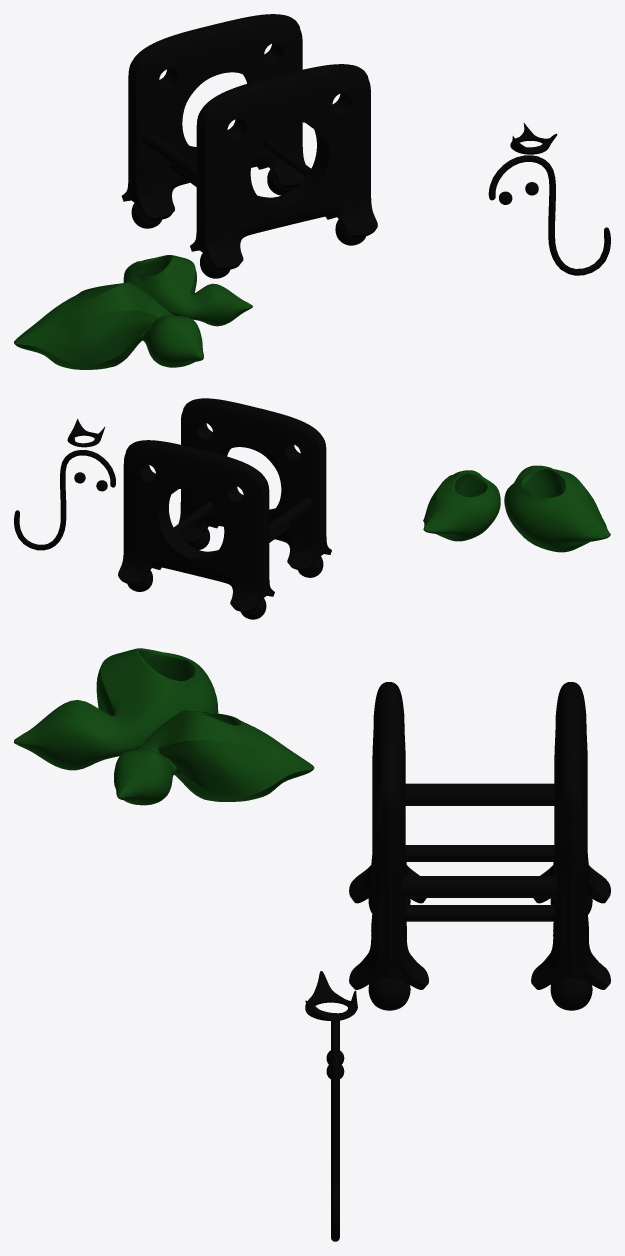
File: Agent2+User.fbx
The picture shows the model from 3 angles, top to bottom: view 1: azimuth 30°, elevation 25°; view 2: azimuth 150°, elevation 25°; view 3: azimuth 270°, elevation 25°; orthographic projection. The views are drawn at different scales.
Parts seen in each view (by area): view 1: MetalSilver, Metalblue, 圆锥蝴蝶, User; view 2: Metalblue, MetalSilver, 圆锥蝴蝶, User; view 3: 圆锥蝴蝶, MetalSilver, Metalblue, User.
Part boxes in pixels (bbox=[...]): MetalSilver: bbox=[131, 64, 377, 270]; Metalblue: bbox=[121, 14, 365, 278]; 圆锥蝴蝶: bbox=[14, 255, 252, 369]; User: bbox=[488, 123, 610, 275]; Metalblue: bbox=[118, 440, 323, 612]; MetalSilver: bbox=[127, 398, 331, 619]; 圆锥蝴蝶: bbox=[423, 465, 610, 552]; User: bbox=[14, 418, 115, 550]; 圆锥蝴蝶: bbox=[14, 648, 314, 805]; MetalSilver: bbox=[349, 682, 592, 1010]; Metalblue: bbox=[368, 682, 610, 1010]; User: bbox=[305, 971, 357, 1241].
Bounding box in the file's own units: 68.7 × 25.36 × 40.7.
